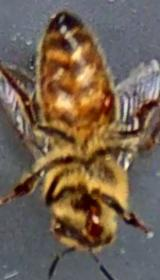varroa_mite: (97, 84, 116, 120)
